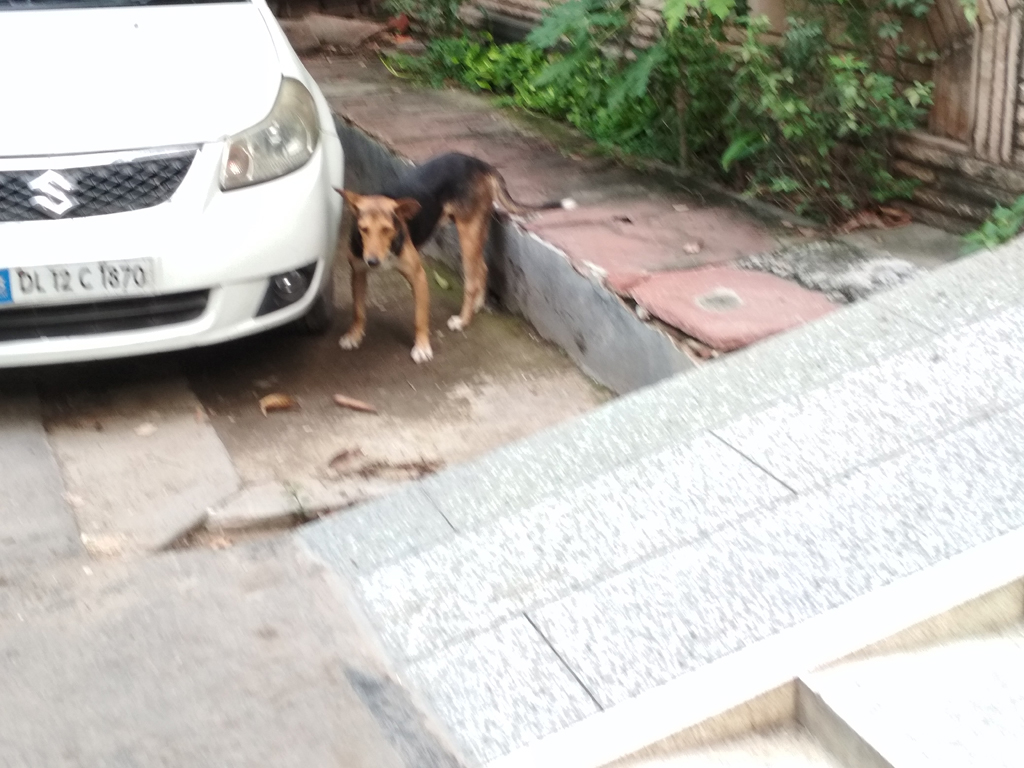dog: (333, 150, 579, 365)
